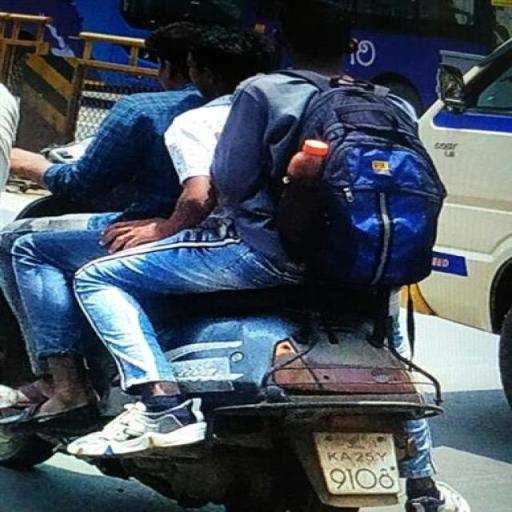tripple riding: (4, 14, 451, 317)
